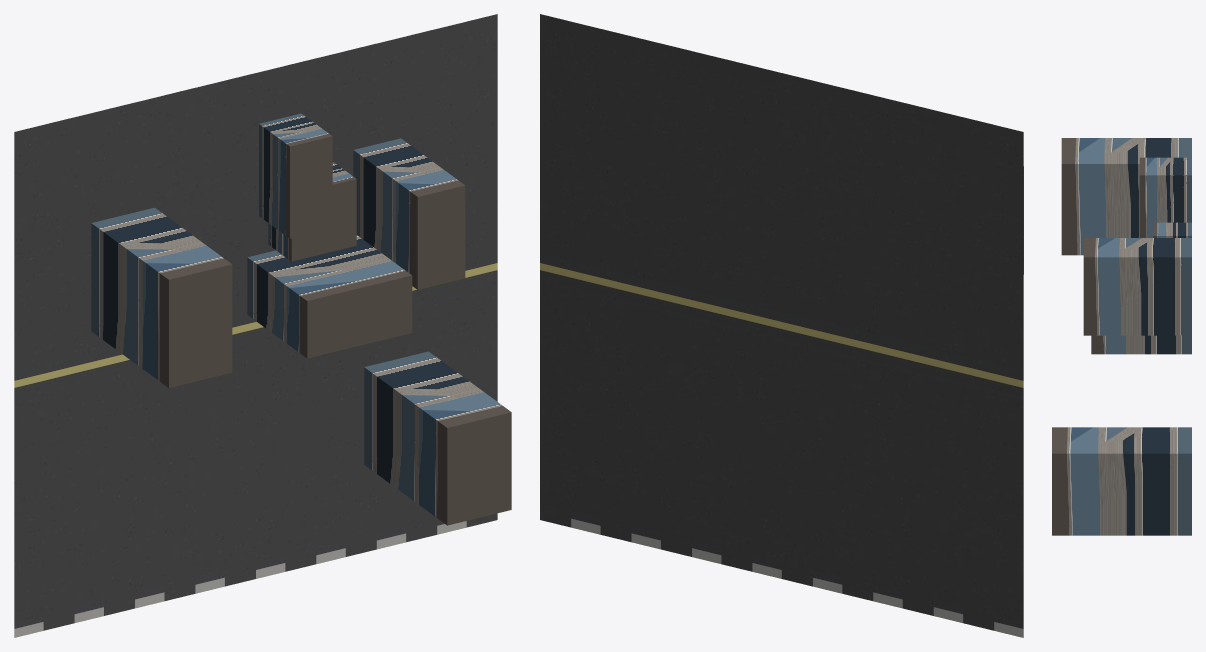
The picture shows the model from 3 angles, left to right: view 1: azimuth 30°, elevation 25°; view 2: azimuth 150°, elevation 25°; view 3: azimuth 270°, elevation 25°; orthographic projection. The views are drawn at different scales.
Size of the model in its own units: 119 by 119 by 35.49.
Materials: 2 (2 with a texture image).
